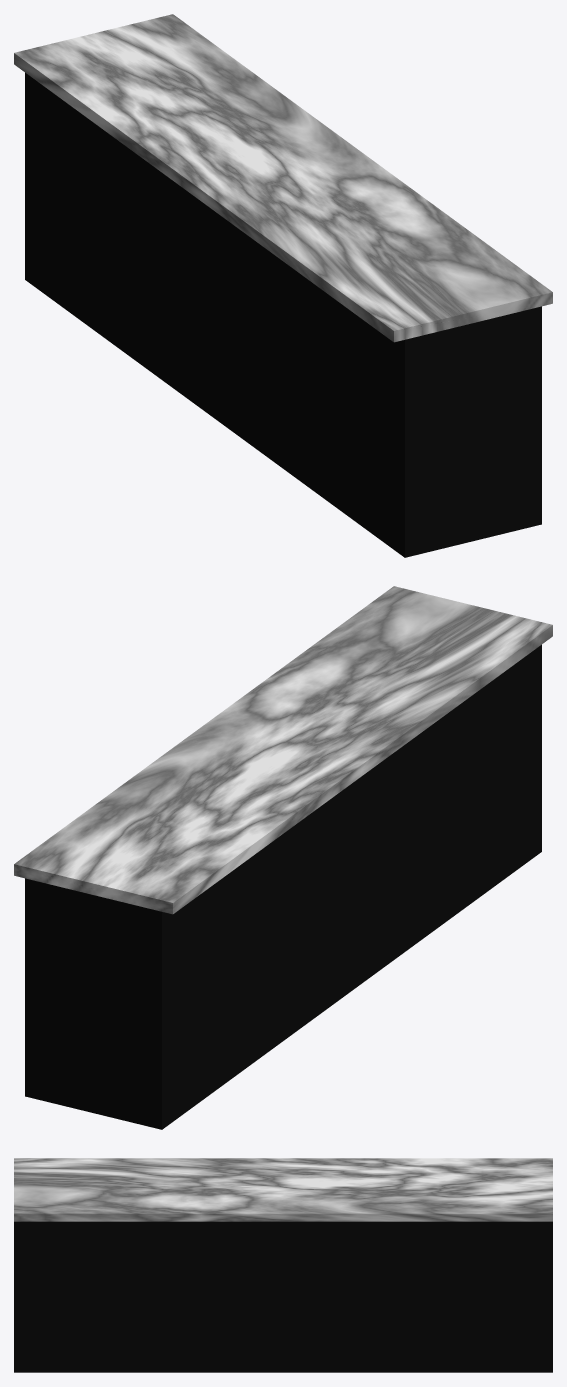
The model's file is counter.fbx.
3 renders of one model, top to bottom at view 1: azimuth 30°, elevation 25°; view 2: azimuth 150°, elevation 25°; view 3: azimuth 270°, elevation 25°, orthographic. The views are drawn at different scales.
Parts seen in each view (by area): view 1: Counter; view 2: Counter; view 3: Counter.
Part boxes in pixels (x1,y1,x2,y2): Counter: [14, 14, 552, 557]; Counter: [14, 586, 552, 1129]; Counter: [14, 1158, 552, 1372].
Size of the model in its own units: 145 by 200 by 600.
Materials: 2 (1 with a texture image).
